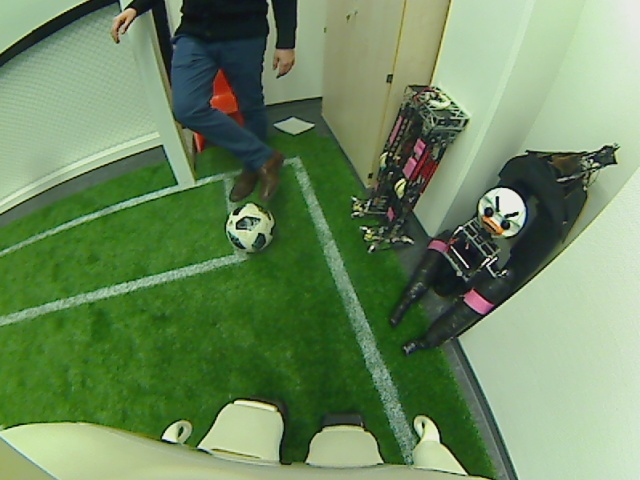ball: (224, 200, 276, 254)
